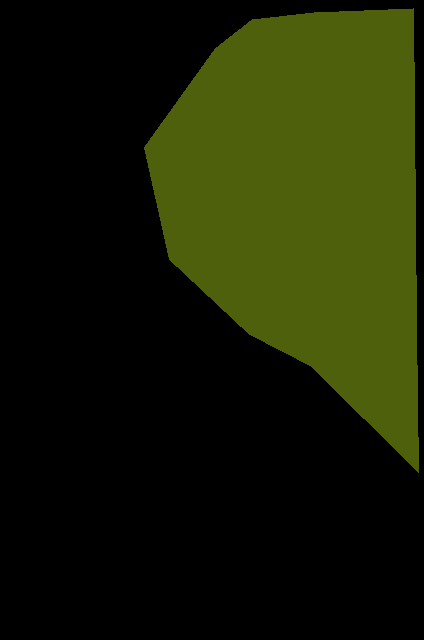Train: (144, 8, 418, 473)
